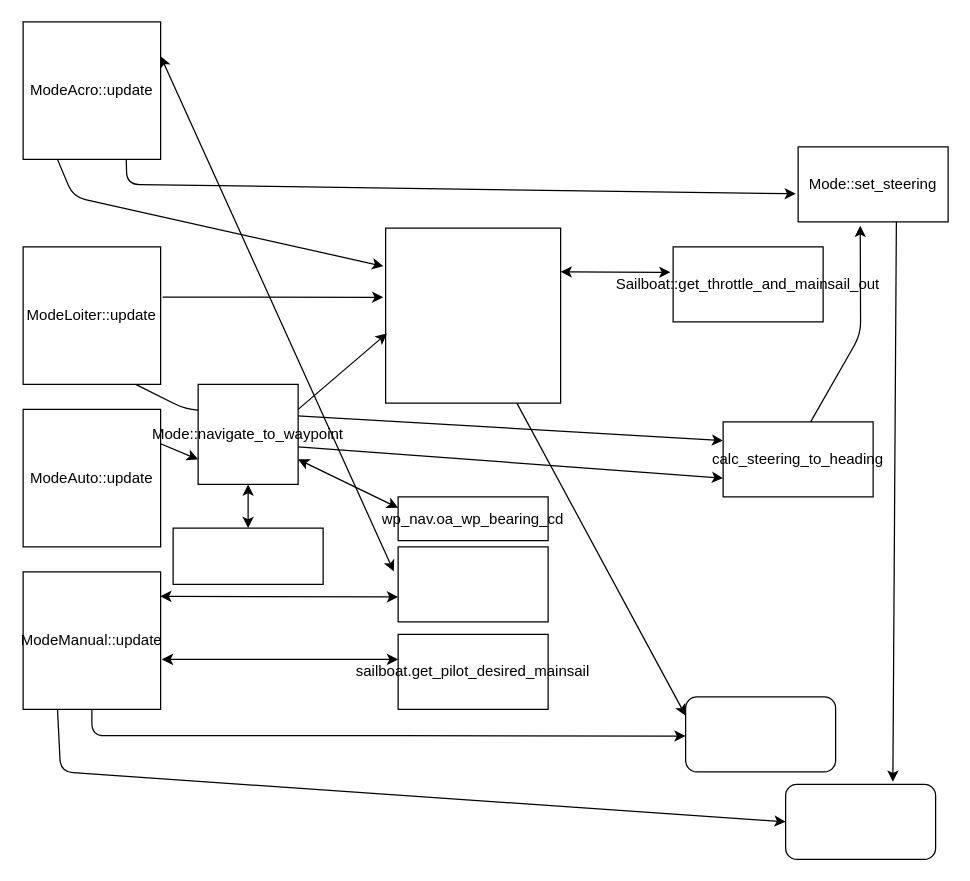
This 970x881 diagram has some shape labels left out. The shapes that lost their labels are listed below. From the top down, each one's centre as x and y in pixels, then its label:
At (472,315): "Mode::calc_throttle".
At (247,555): "sailboat.calc_heading".
At (472,584): "Mode:get_pilot_desired_steering_and_throttle".
At (760,734): "motors.set_mainsail".
At (860,821): "motors.set_steering".
